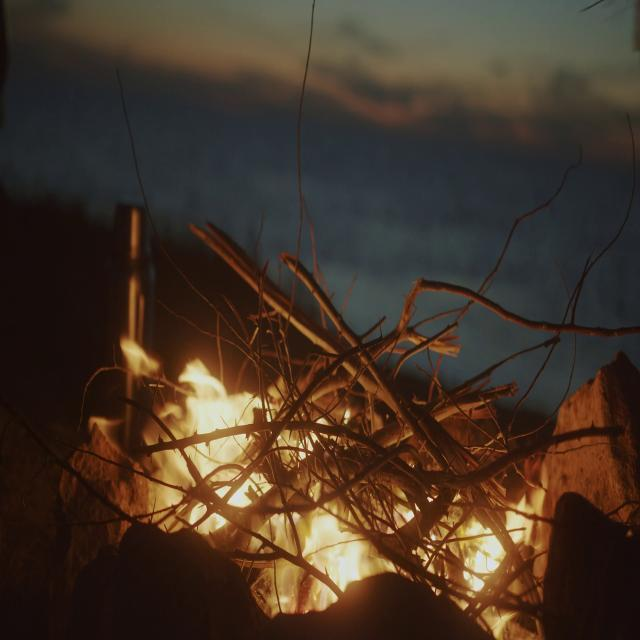Fire: (138, 386, 548, 612)
